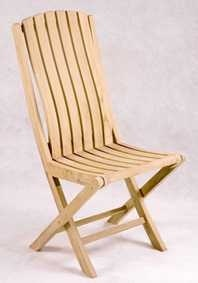obstacle: (15, 10, 183, 277)
